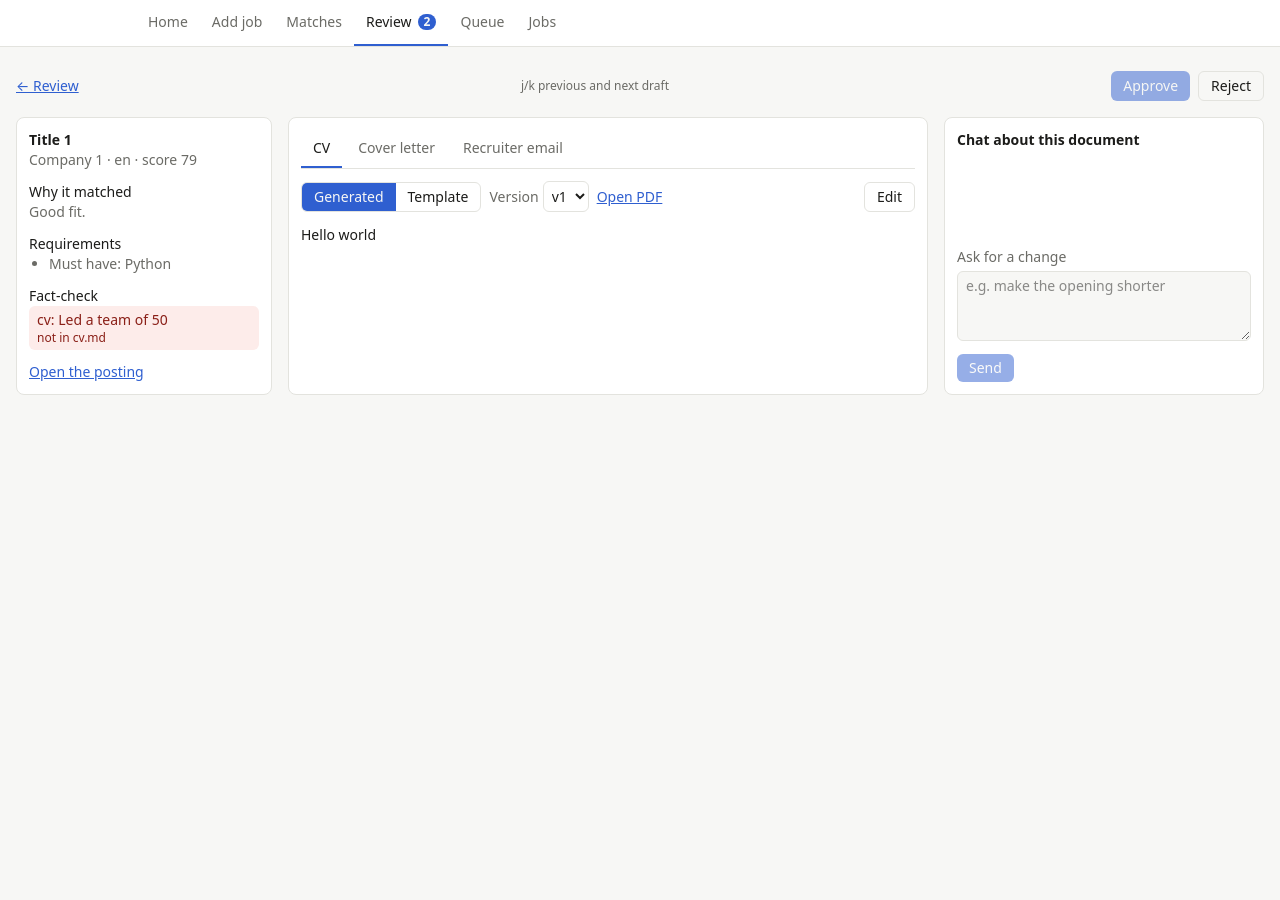
Review detail › needs every document tab opened before Approve, then approves and moves on
This screenshot has width=1280, height=900.
Expected: the button "Approve" is disabled, [1111, 71, 1190, 101]
Click the tab "Cover letter": x=397, y=149 [346, 130, 447, 168]
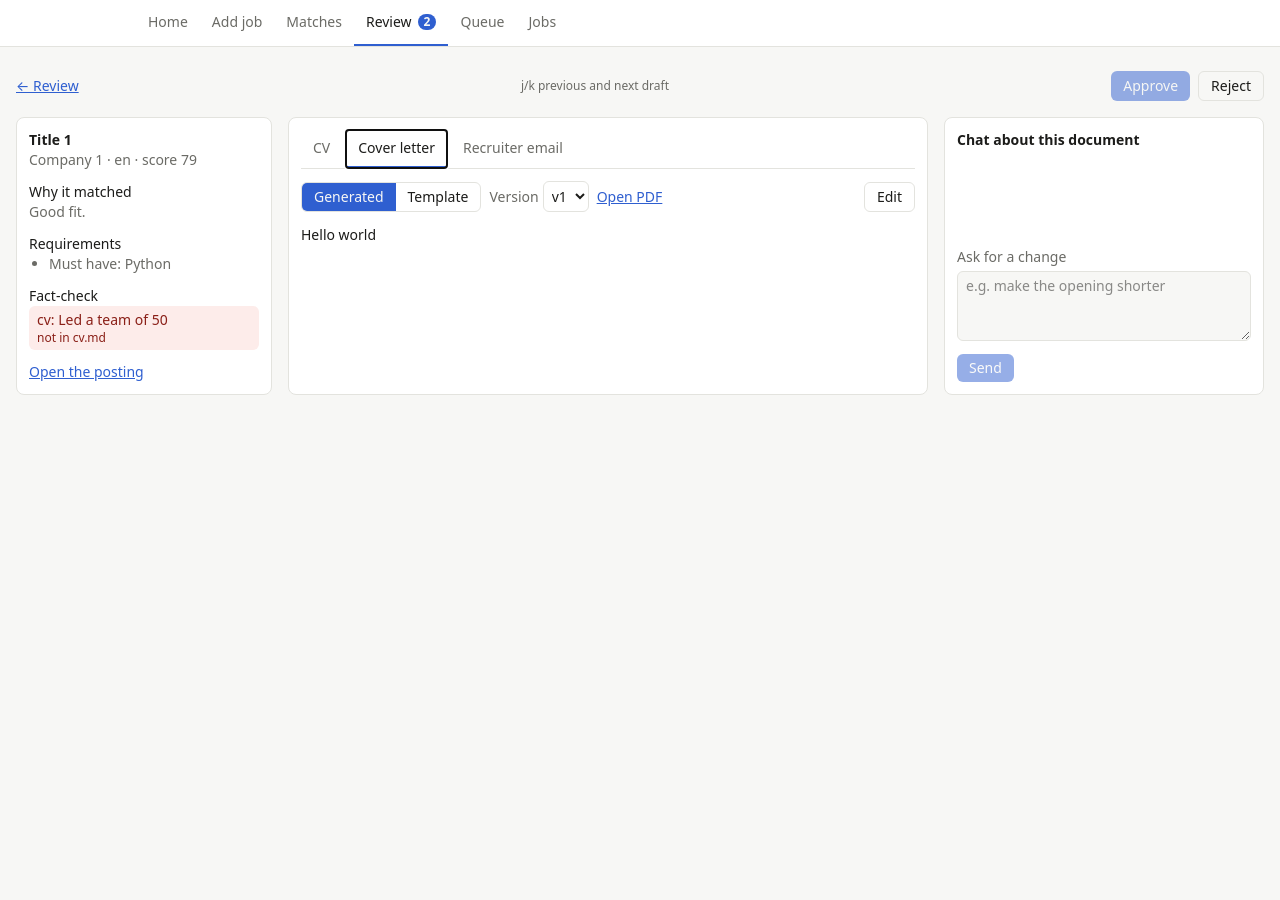
Click the tab "Recruiter email": x=513, y=149 [451, 130, 575, 168]
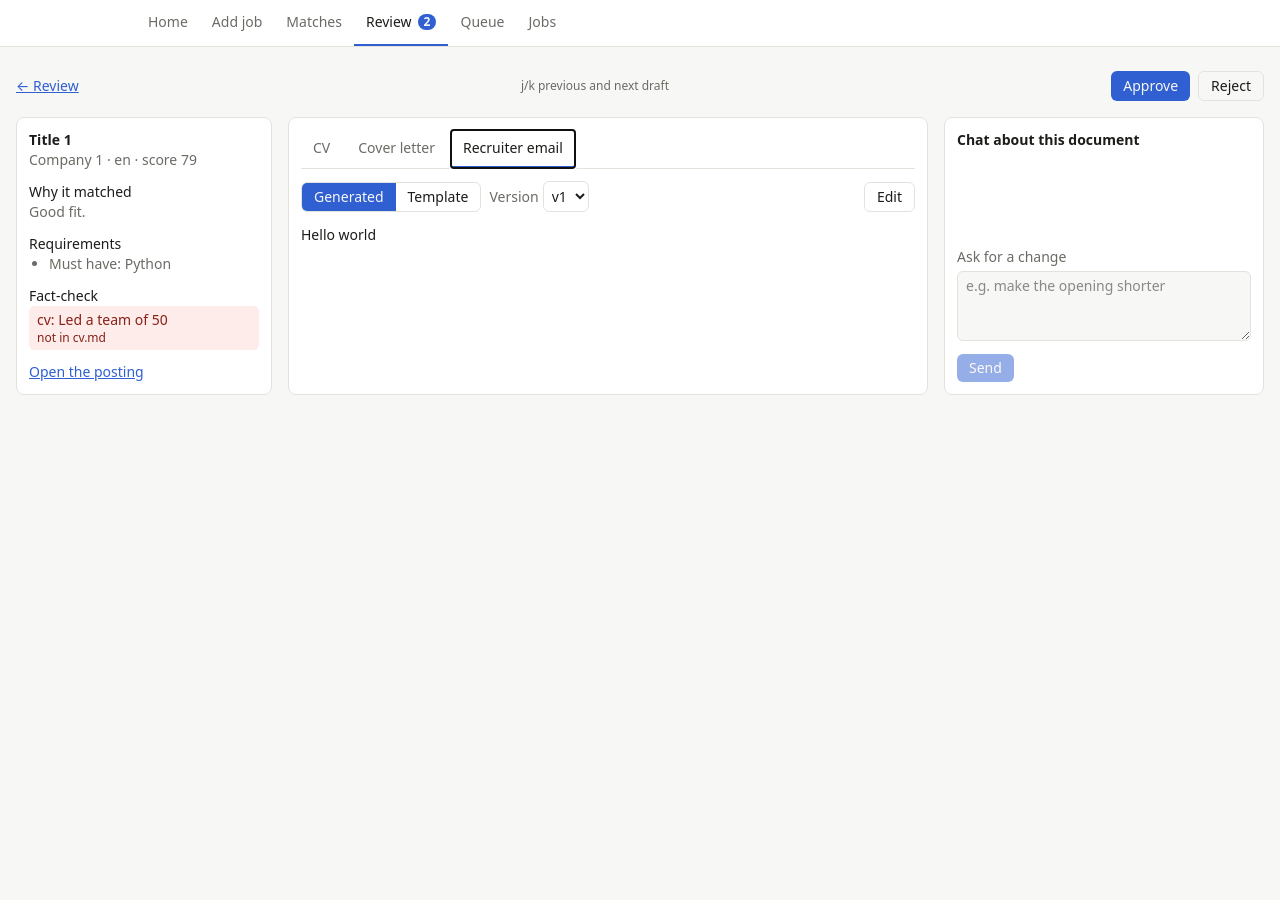
Now the button "Approve" is enabled
Click the button "Approve": x=1151, y=86 [1111, 71, 1190, 101]
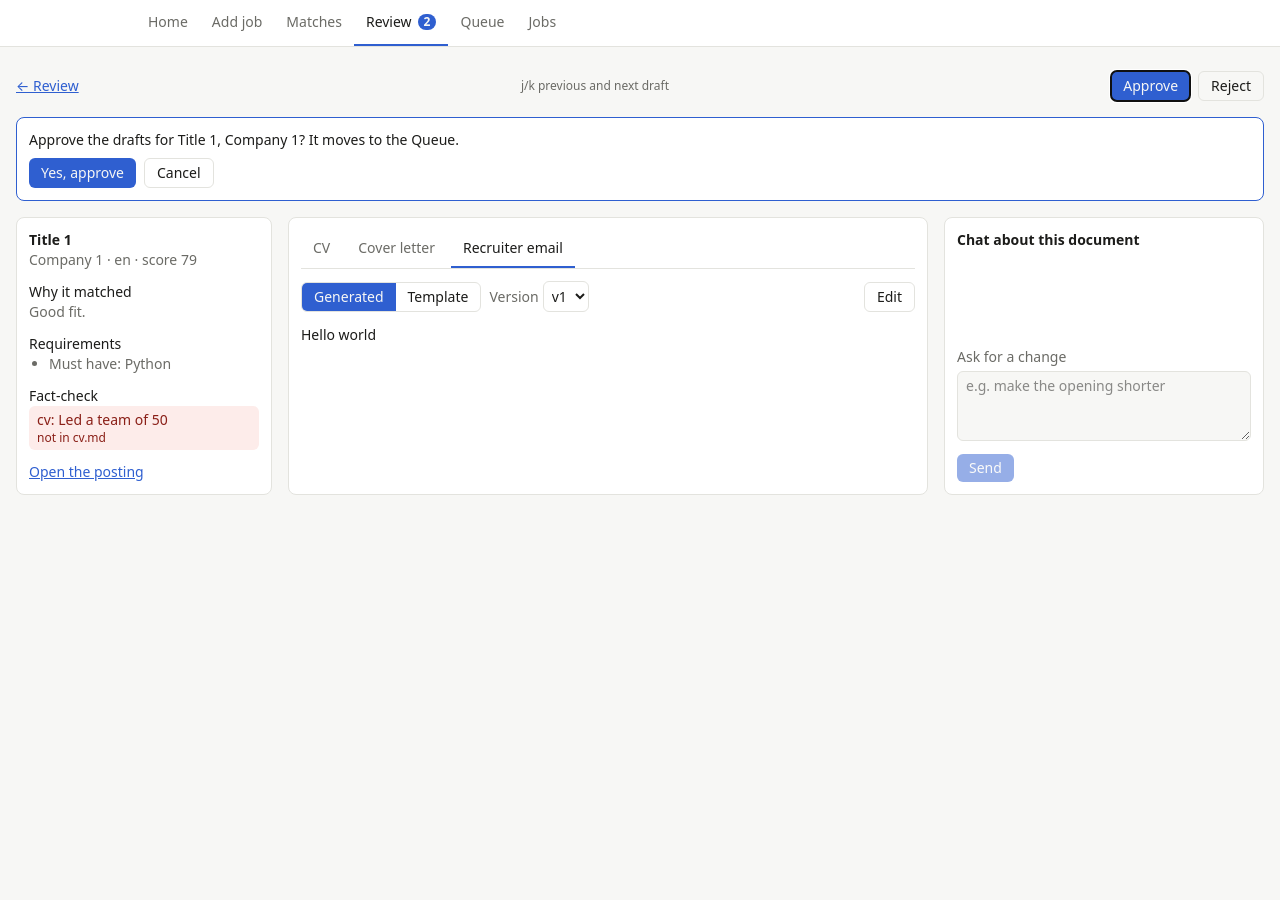
Click the button "Yes, approve": x=82, y=173 [29, 158, 136, 188]
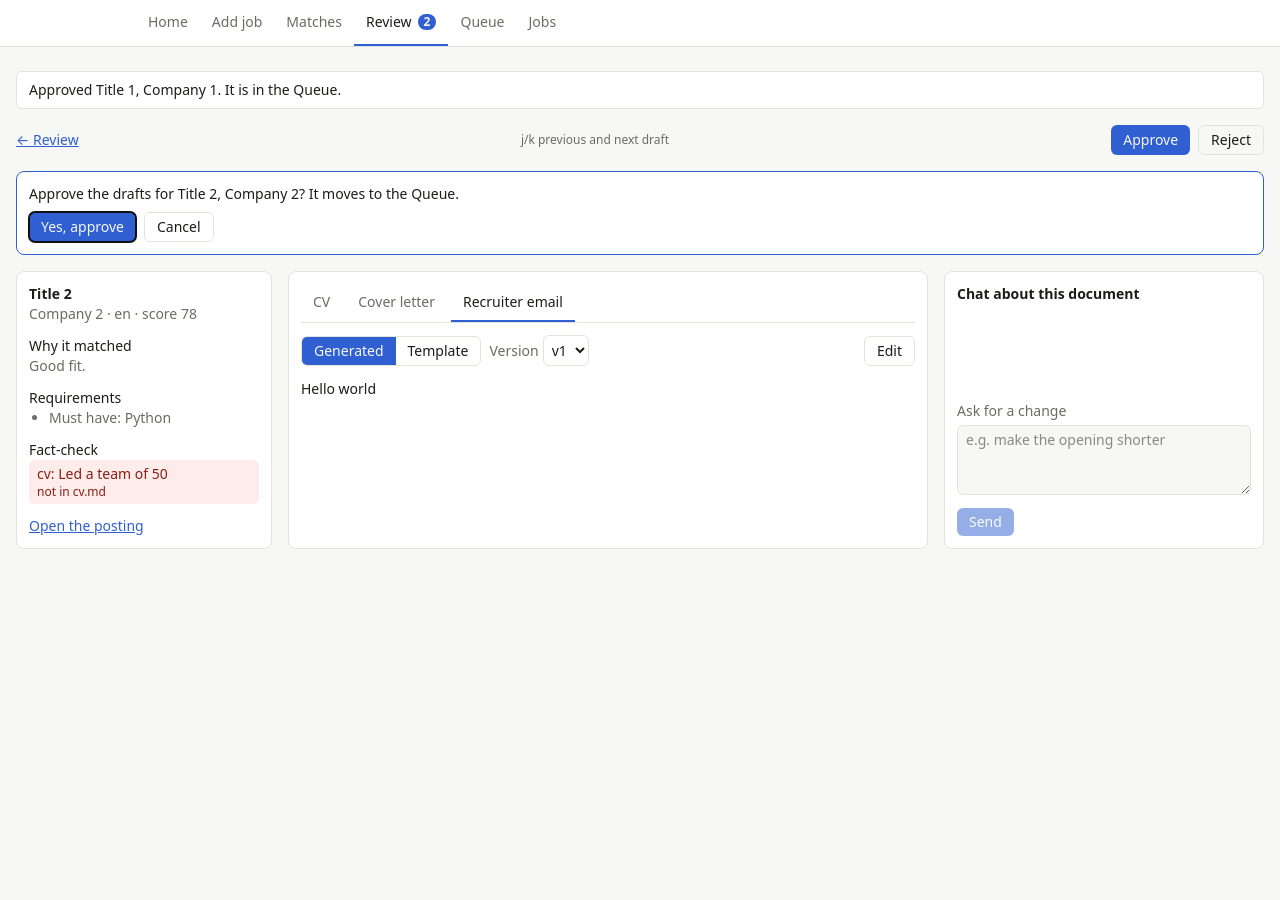
Now the text "Approved Title 1, Company 1. It is in the Queue." is shown, box [16, 71, 1264, 109]
